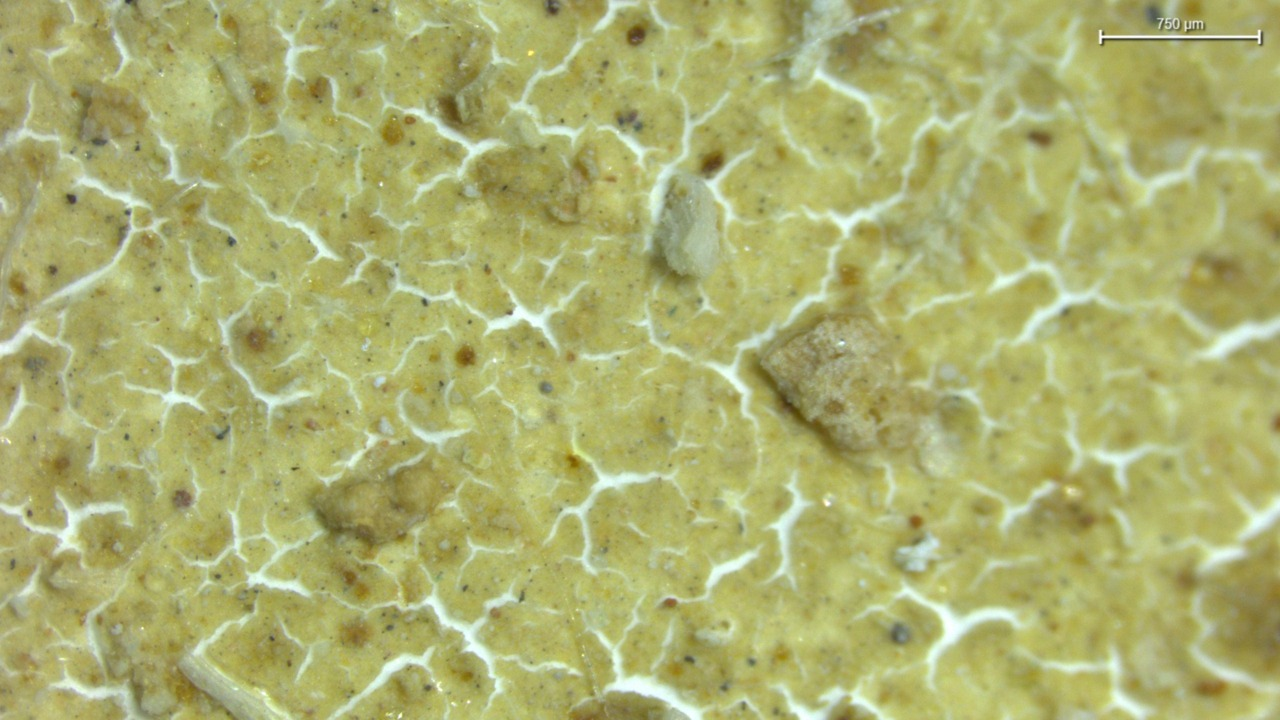microplastic_fragment: (761, 307, 935, 454), (663, 177, 728, 279)
